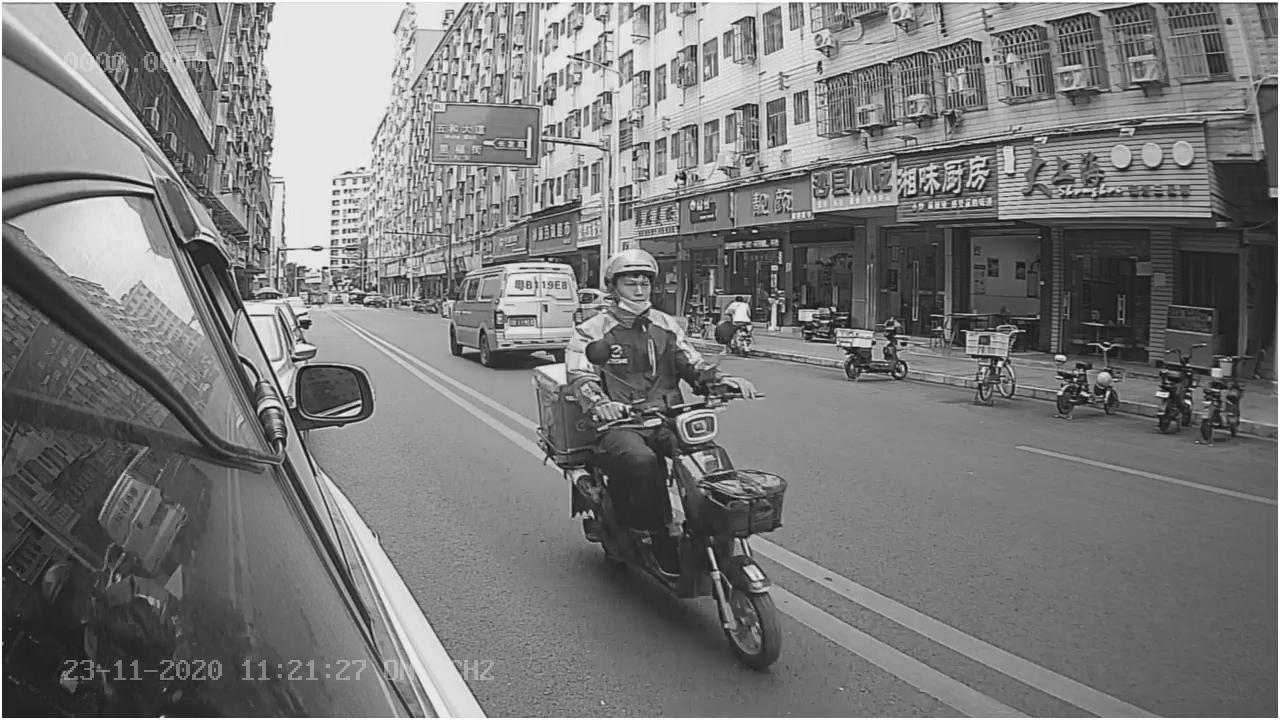person: (568, 246, 760, 402)
